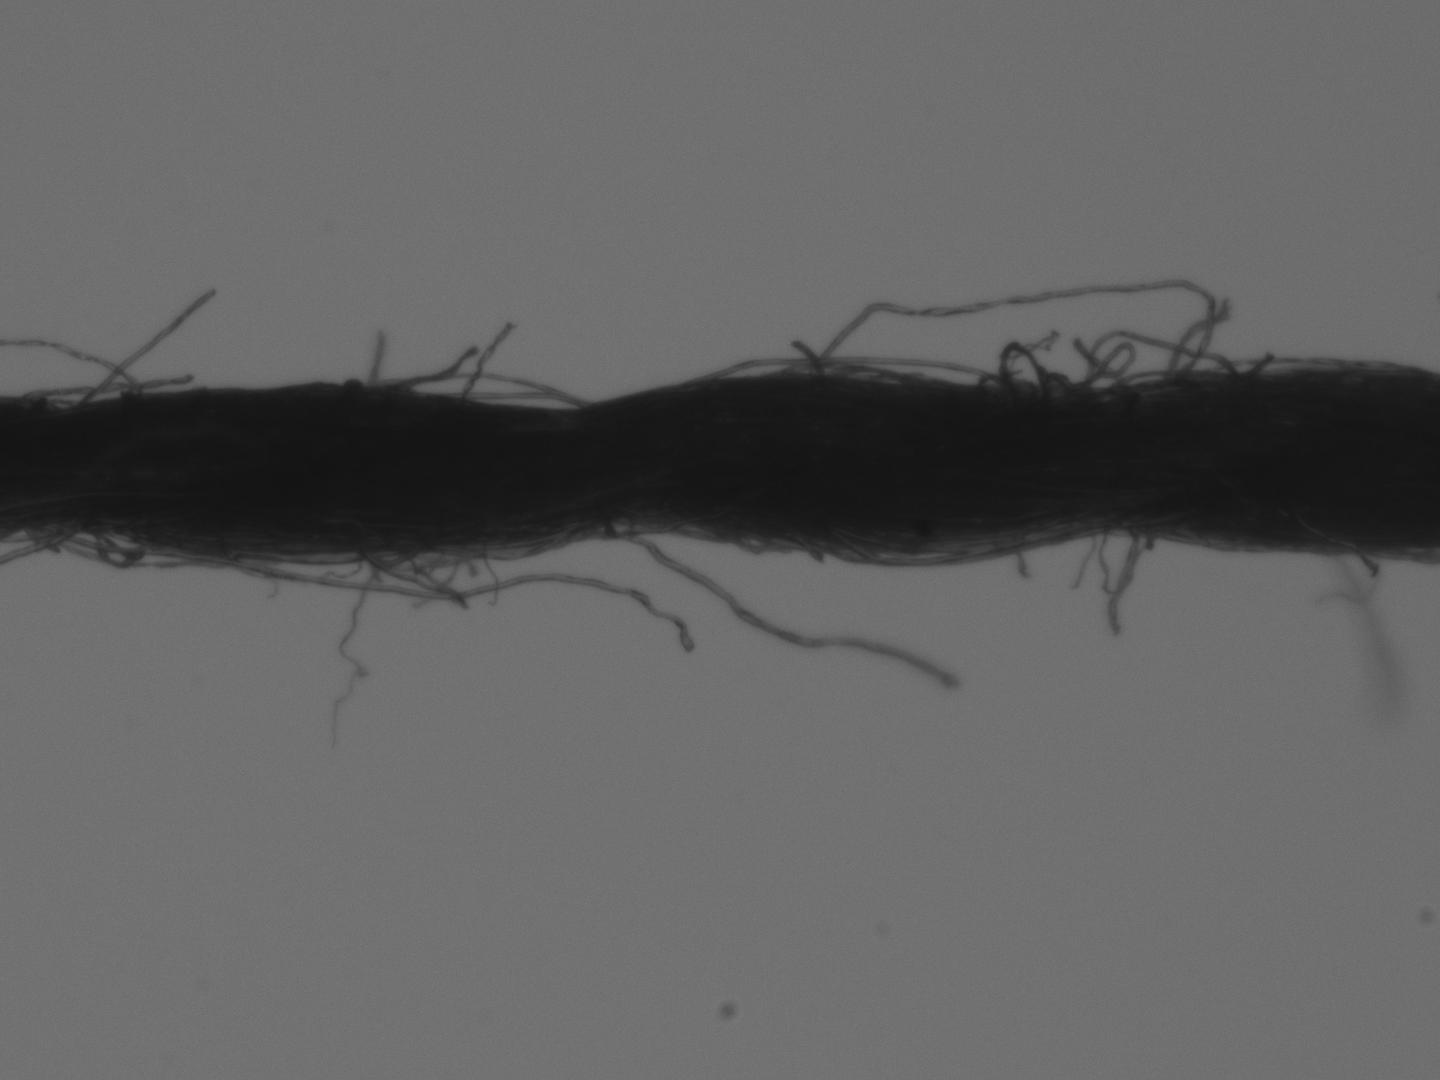loop_fiber: (797, 275, 1220, 423), (774, 512, 1112, 569), (14, 512, 265, 572), (366, 365, 595, 425), (971, 330, 1134, 413), (1091, 326, 1239, 394), (438, 524, 592, 566), (353, 542, 421, 574)
protruding_fiber: (620, 528, 958, 690), (63, 286, 215, 406)
